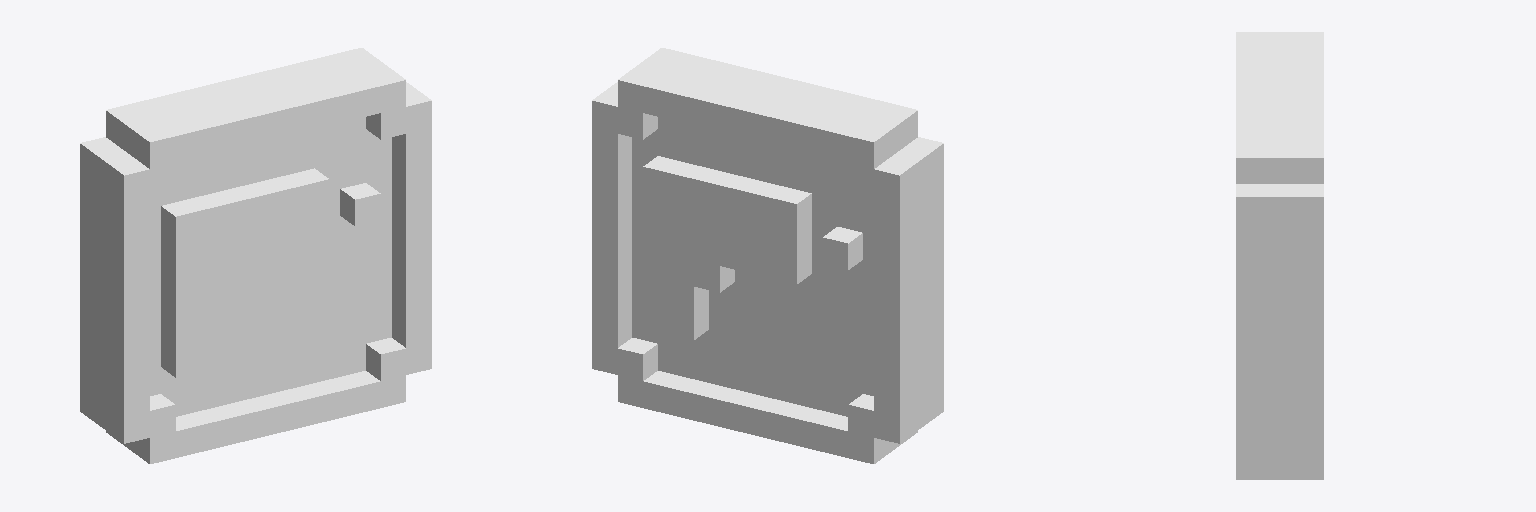
File: Ataque_Up.obj
3 views of the same model, side by side, from view 1: azimuth 30°, elevation 25°; view 2: azimuth 150°, elevation 25°; view 3: azimuth 270°, elevation 25° (orthographic).
Bounding box in the file's own units: 12 × 12 × 3.